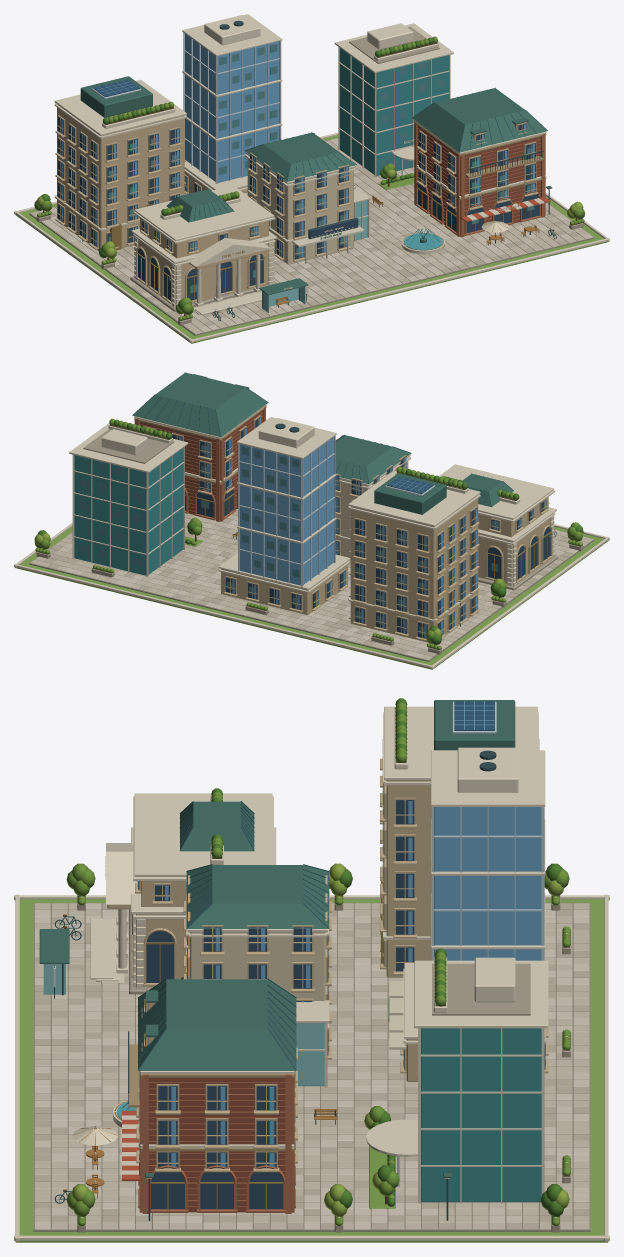
File: level-5.glb
The picture shows the model from 3 angles, top to bottom: view 1: azimuth 30°, elevation 25°; view 2: azimuth 150°, elevation 25°; view 3: azimuth 270°, elevation 25°; orthographic projection. The views are drawn at different scales.
Visible parts, largest first — view 1: finance_level_5_geometry; view 2: finance_level_5_geometry; view 3: finance_level_5_geometry.
Part boxes in pixels (<box>): finance_level_5_geometry: <box>14,14,609,343</box>; finance_level_5_geometry: <box>14,372,609,669</box>; finance_level_5_geometry: <box>14,698,609,1242</box>.
Bounding box in the file's own units: 60 × 23.6 × 44.
